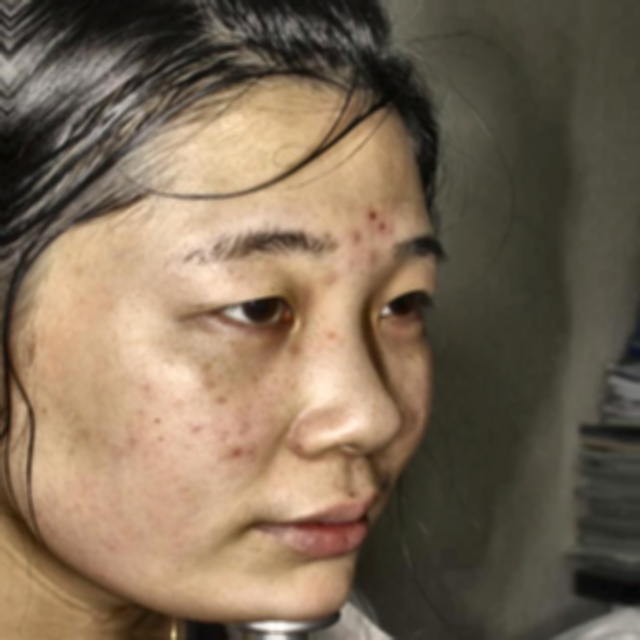comedone: (221, 442, 255, 466), (346, 226, 369, 250)
